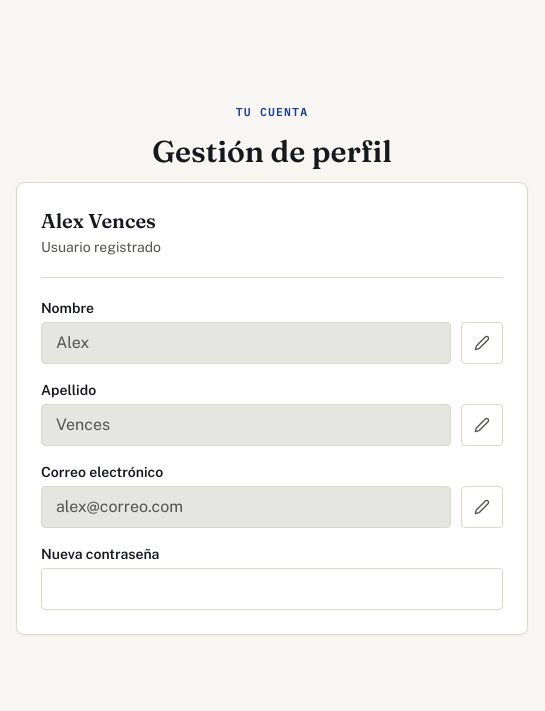
Test case: GestionarPerfil: cambio de correo y contraseña › 403 shows the wrong current password message
The width and height of the screenshot is (545, 711).
Click the button named "Editar correo". click: (482, 507)
box: 461,486 -> 503,528
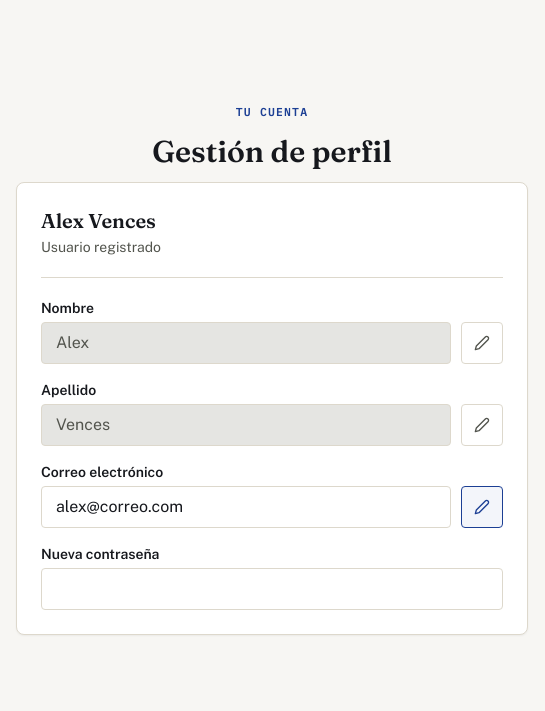
Replace the text in the field labelled "Correo electrónico" with "nuevo@correo.com". click: (246, 507)
box: 41,486 -> 451,528
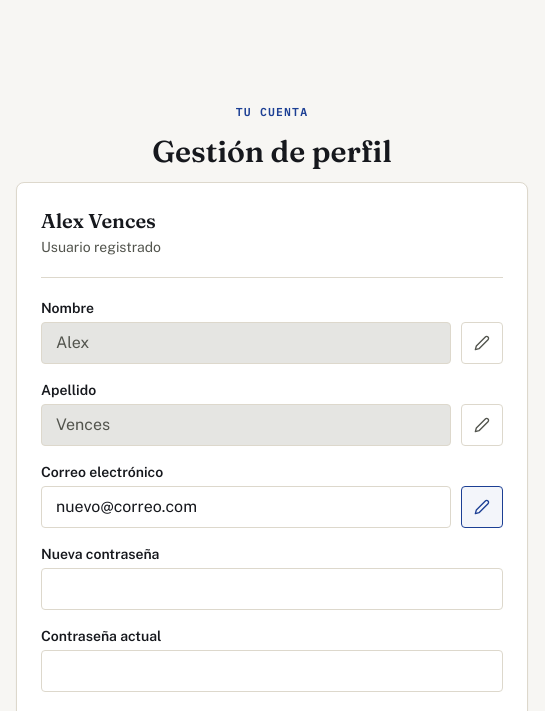
Type "mala" into the password field labelled "Contraseña actual". click: (272, 671)
box: 41,650 -> 503,692
(page scrolled)
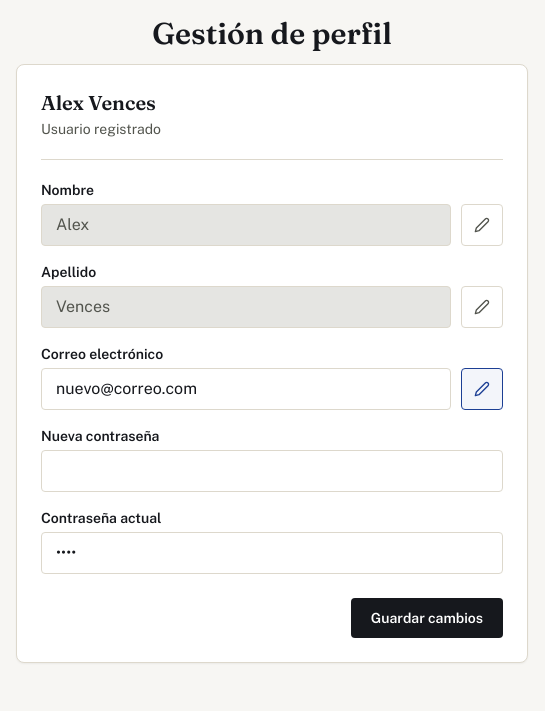
Click the button "Guardar cambios". click: (427, 618)
box: 351,598 -> 503,638
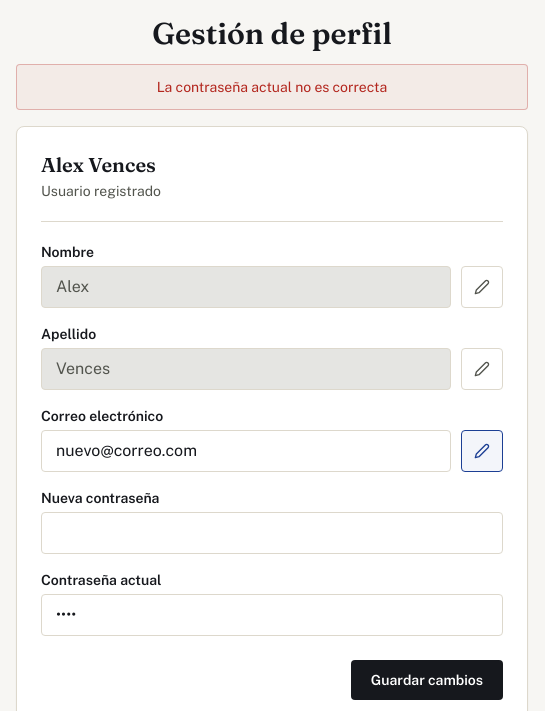
Result: the text "La contraseña actual no es correcta" is shown at 16,64 -> 528,110
